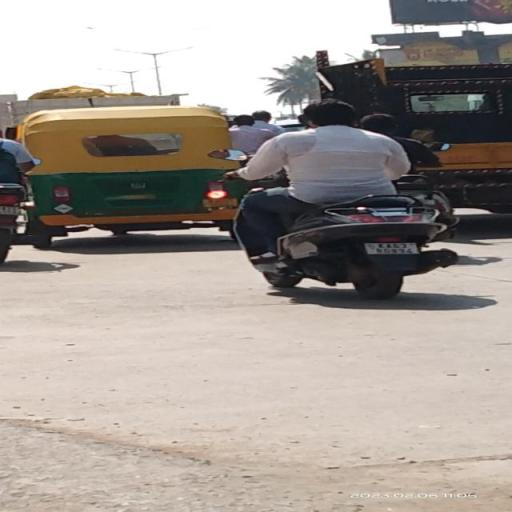bike: (203, 98, 453, 304)
numberplate: (363, 241, 419, 255)
withouthelmet: (306, 100, 352, 126)
